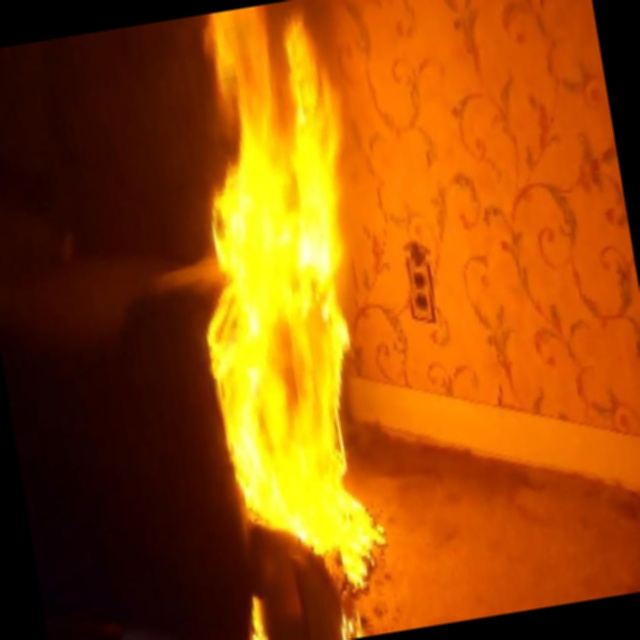fire: (150, 0, 421, 573)
